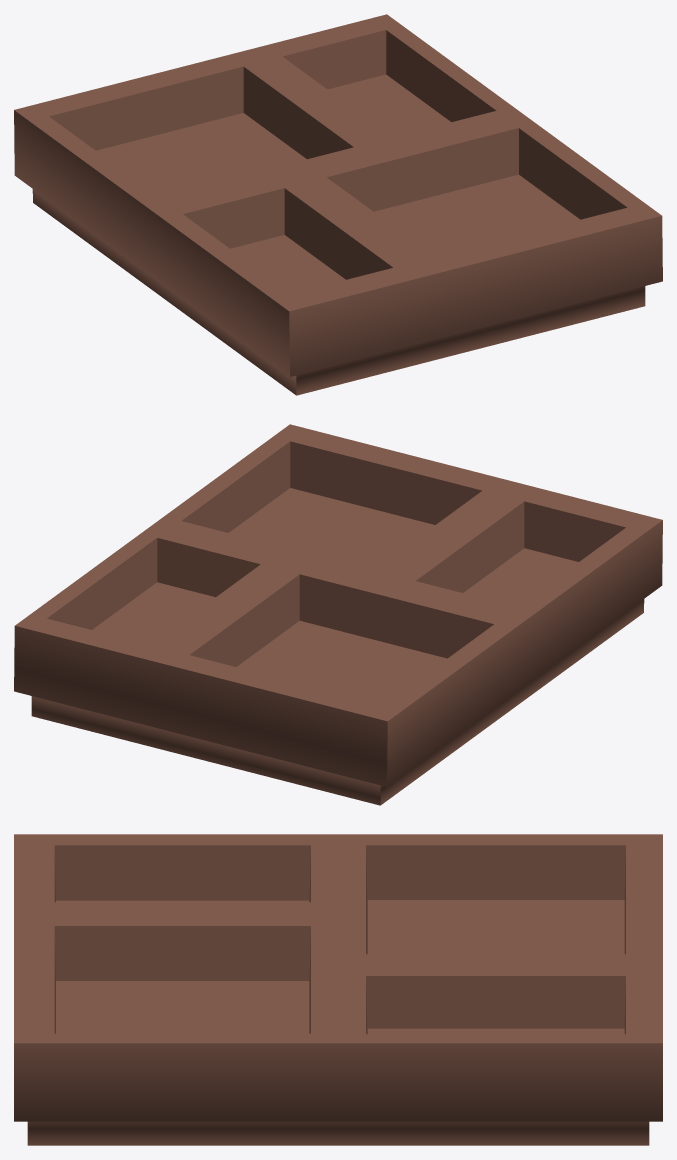
The model's file is SM_Pan_01.fbx.
The picture shows the model from 3 angles, top to bottom: view 1: azimuth 30°, elevation 25°; view 2: azimuth 150°, elevation 25°; view 3: azimuth 270°, elevation 25°; orthographic projection. The views are drawn at different scales.
Visible parts, largest first — view 1: SM_Pan_01; view 2: SM_Pan_01; view 3: SM_Pan_01.
Boxes of the visible parts, box(x1,y1,x2,y2) form: SM_Pan_01: box(14, 14, 662, 395); SM_Pan_01: box(14, 424, 662, 805); SM_Pan_01: box(14, 834, 662, 1145).
Size of the model in its own units: 27.65 by 6.82 by 35.28.
1 material, 1 textured.
